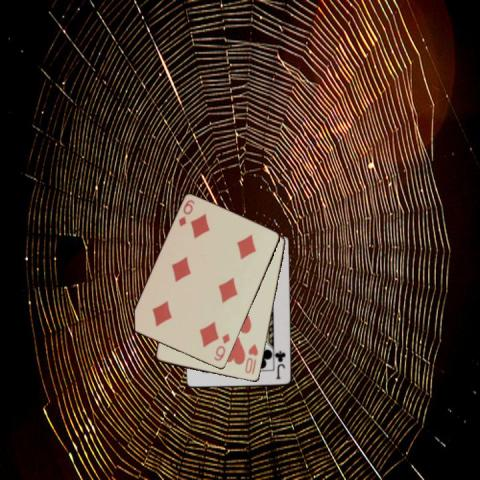10h: (242, 342, 259, 376)
6d: (175, 197, 196, 228), (211, 330, 231, 362)
Jc: (274, 348, 287, 381)
